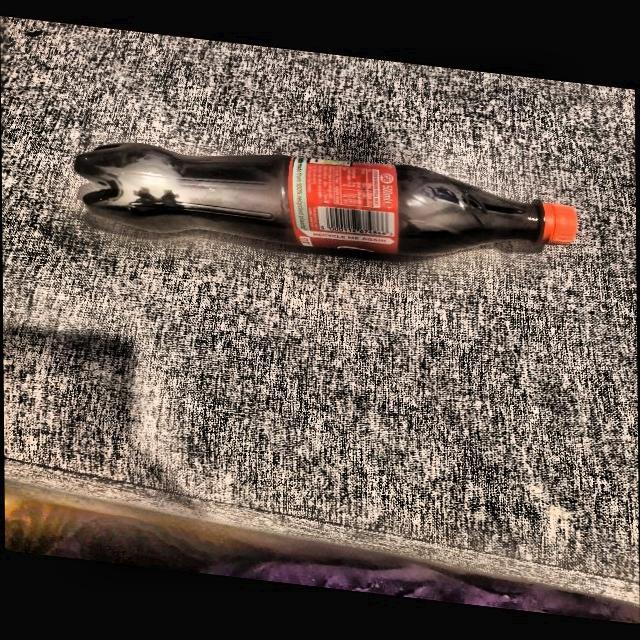coke-bottle: (72, 135, 586, 275)
